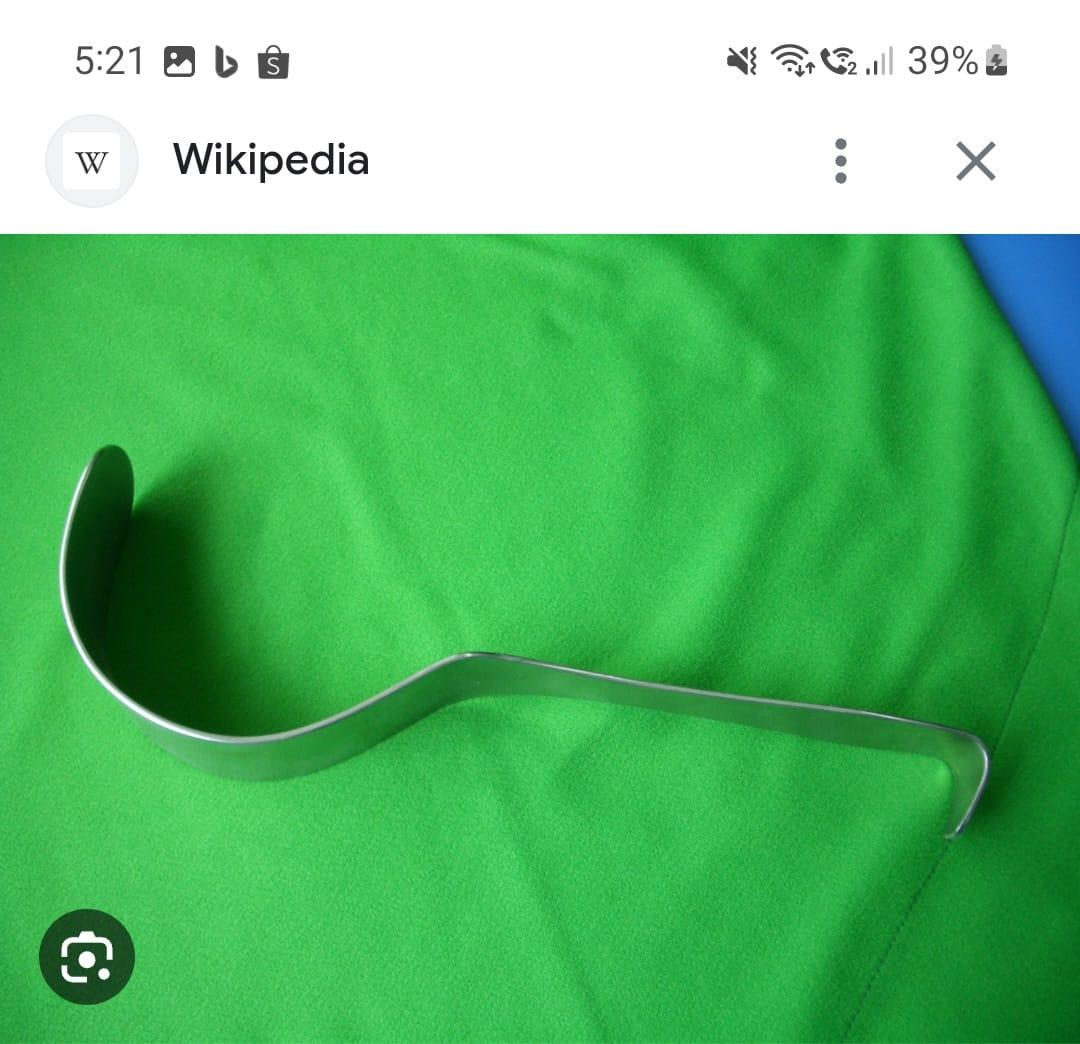Deaver Retractor: (47, 438, 1023, 852)
